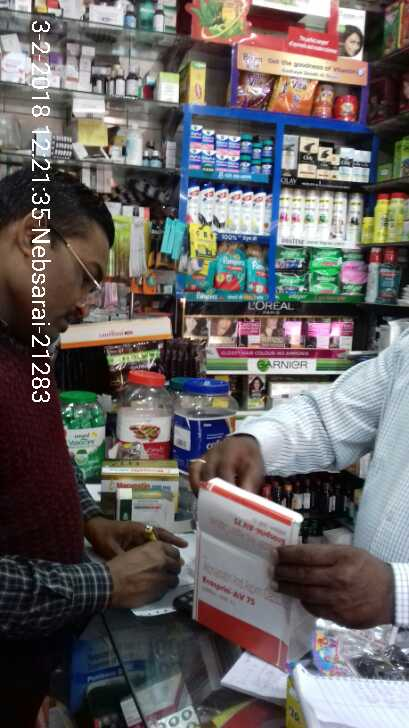vicks: (187, 119, 275, 177)
